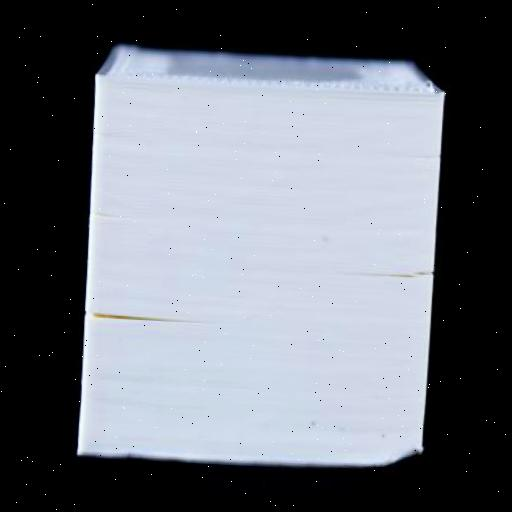cracks: (66, 284, 236, 352), (312, 230, 451, 310), (76, 186, 150, 248)
